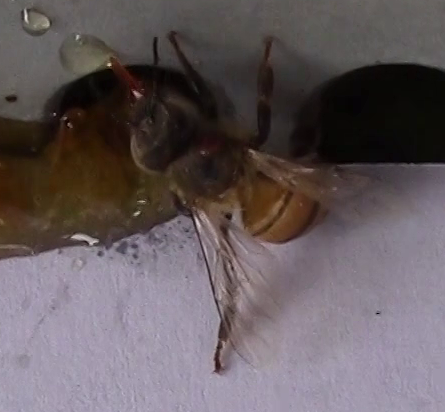Varroa destructor: (195, 130, 227, 156)
